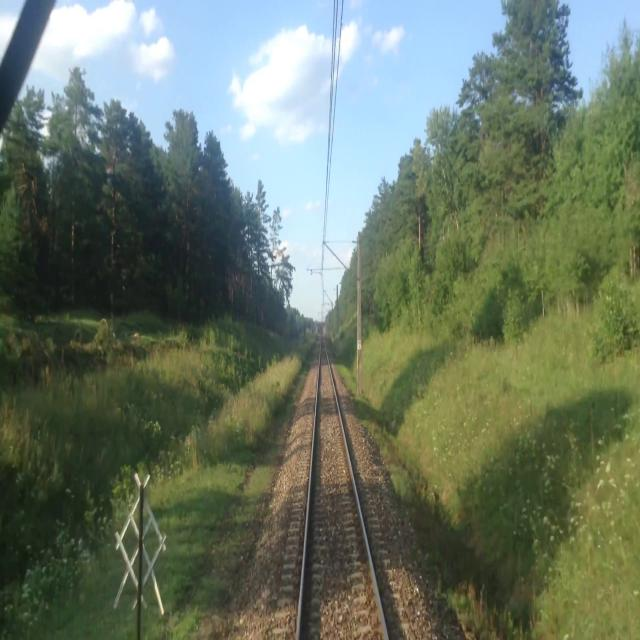rail-track: (300, 341, 384, 639)
